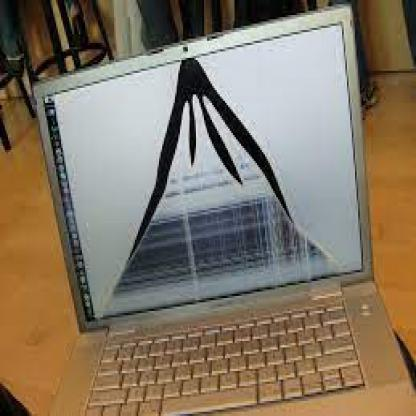crack: (89, 58, 346, 322)
